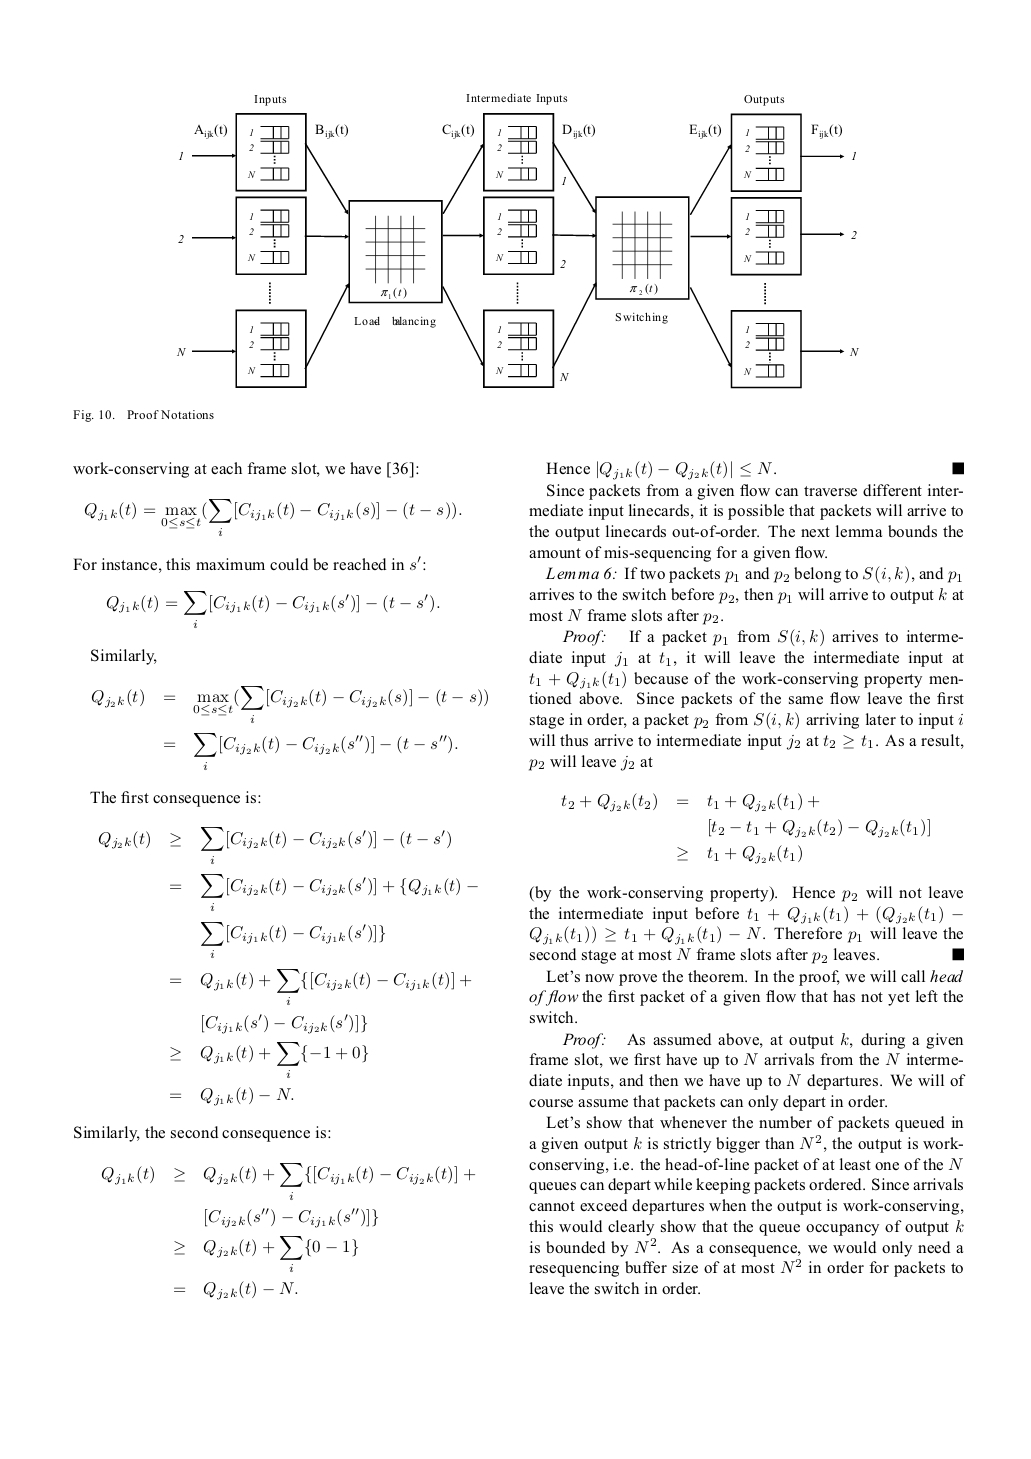figure: (176, 93, 858, 388)
formula: (91, 686, 486, 722), (84, 499, 461, 535), (102, 1163, 475, 1199), (98, 827, 450, 863), (106, 591, 439, 627), (170, 875, 476, 910), (164, 733, 457, 769), (170, 969, 471, 1004), (546, 460, 963, 480), (170, 1042, 367, 1078), (201, 922, 384, 957), (174, 1236, 357, 1270), (561, 792, 819, 812), (709, 818, 929, 838), (202, 1012, 366, 1034), (205, 1207, 377, 1228), (170, 1086, 293, 1107), (677, 844, 801, 864), (174, 1281, 297, 1299)
